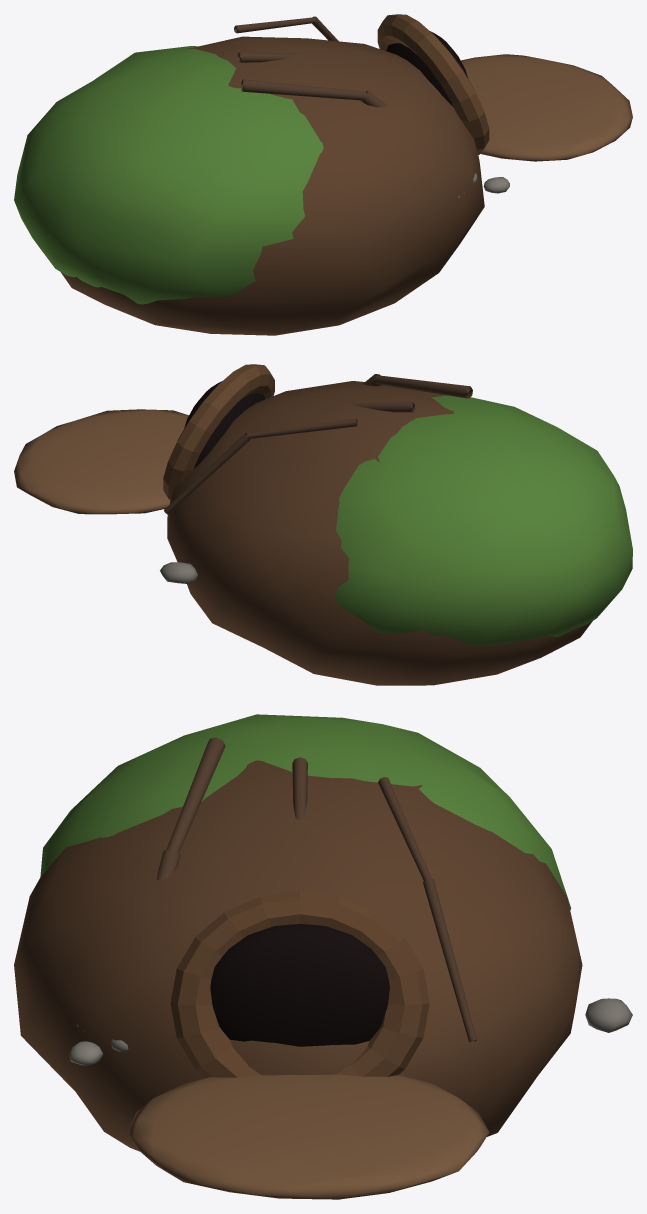
The model's file is fauna.glb.
3 views of the same model, one above another, from view 1: azimuth 30°, elevation 25°; view 2: azimuth 150°, elevation 25°; view 3: azimuth 270°, elevation 25° (orthographic). The views are drawn at different scales.
Parts seen in each view (by area): view 1: den; view 2: den; view 3: den.
Boxes of the visible parts, bbox=[...] form: den: bbox=[14, 14, 632, 335]; den: bbox=[14, 364, 632, 685]; den: bbox=[14, 714, 632, 1199].
Size of the model in its own units: 2.17 by 0.9438 by 1.43.
